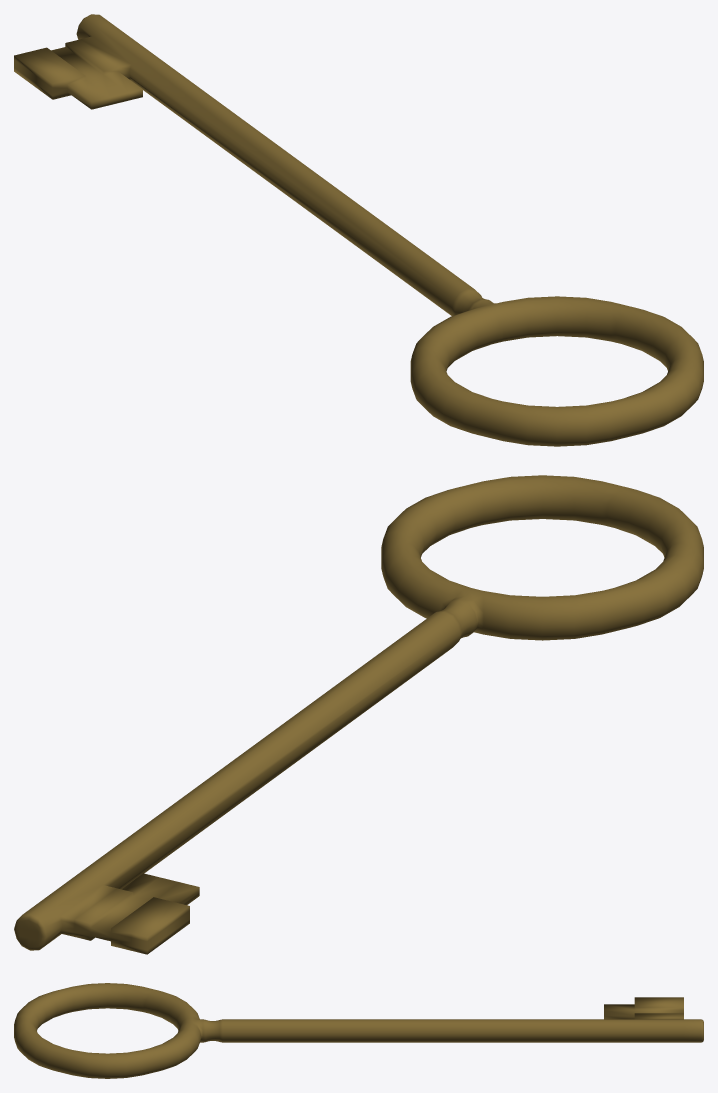
Rendered from SkeletonKey_Brass.fbx.
The picture shows the model from 3 angles, top to bottom: view 1: azimuth 30°, elevation 25°; view 2: azimuth 150°, elevation 25°; view 3: azimuth 270°, elevation 25°; orthographic projection. The views are drawn at different scales.
Visible parts, largest first — view 1: Torus.001; view 2: Torus.001; view 3: Torus.001.
Boxes of the visible parts, x1,y1,x2,y2 form: Torus.001: (14, 14, 703, 446); Torus.001: (14, 475, 703, 954); Torus.001: (14, 983, 703, 1078).
Bounding box in the file's own units: 4.47 × 0.585 × 15.95.
